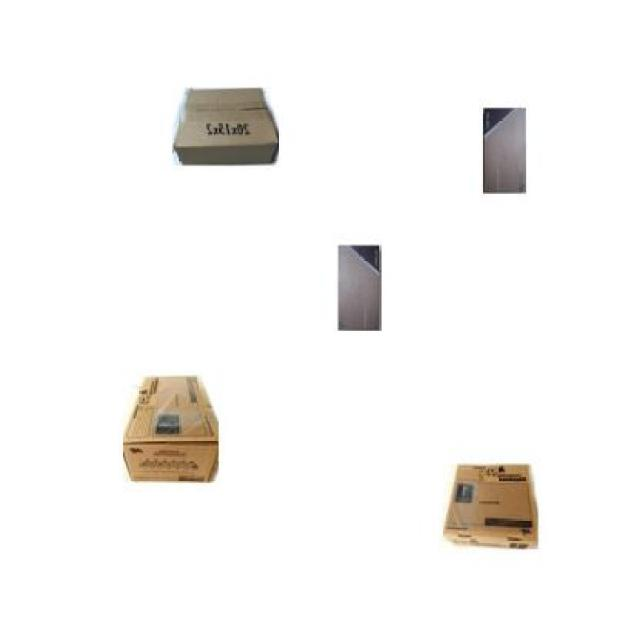cardboxes: (124, 379, 218, 483), (175, 88, 277, 166), (444, 466, 538, 548), (482, 108, 526, 194), (338, 245, 380, 332)
